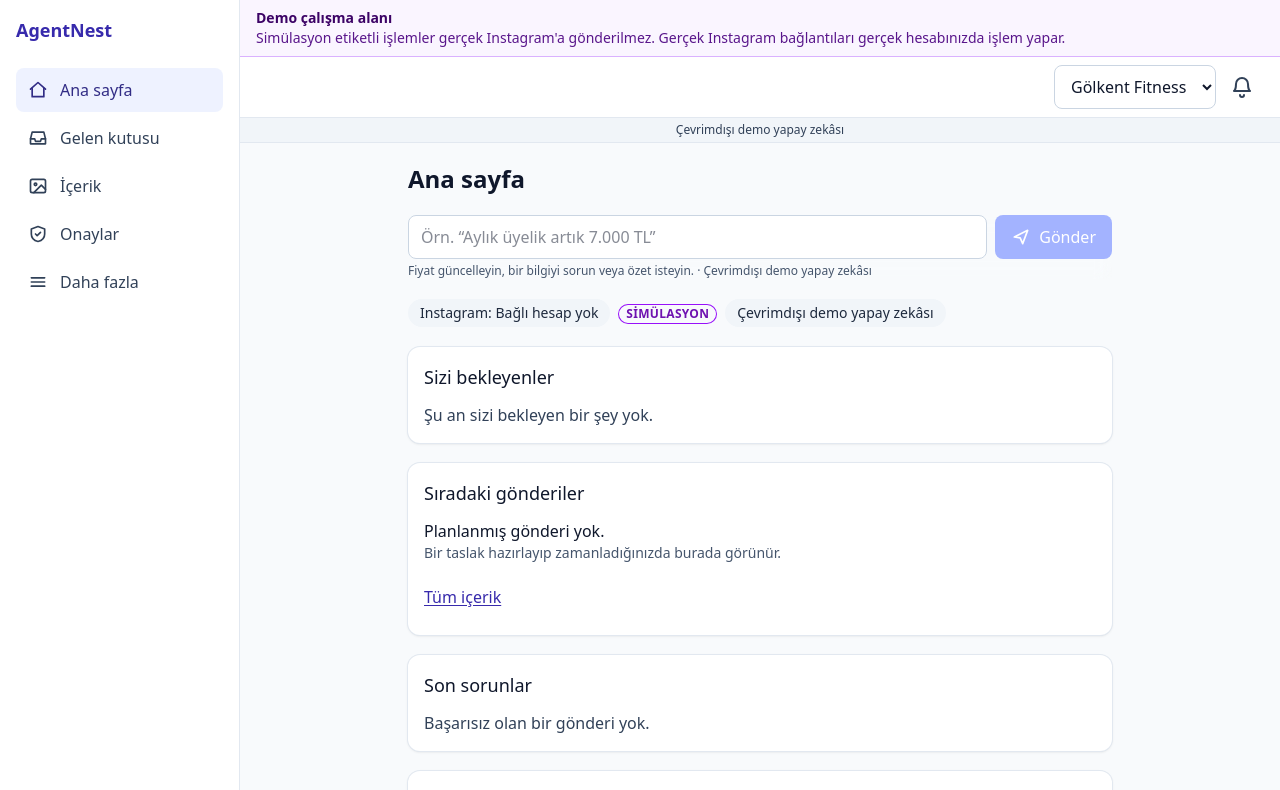
Test case: command bar › shows a plain-language failure from the error code
Type "Aylık üyelik artık 7.000 TL" into the field named "Komut" at (698, 237), box [408,215,987,259]
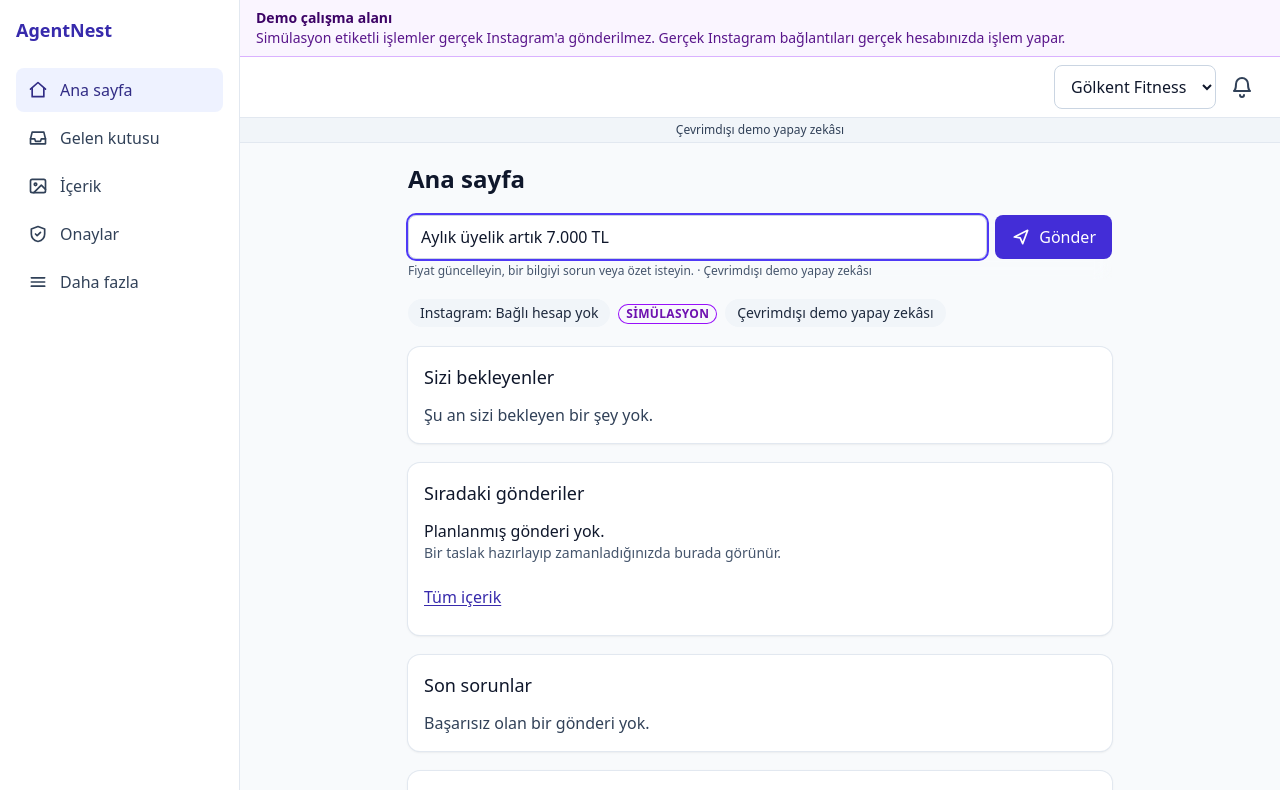
Click the button "Gönder" at (1054, 237), box [995,215,1112,259]
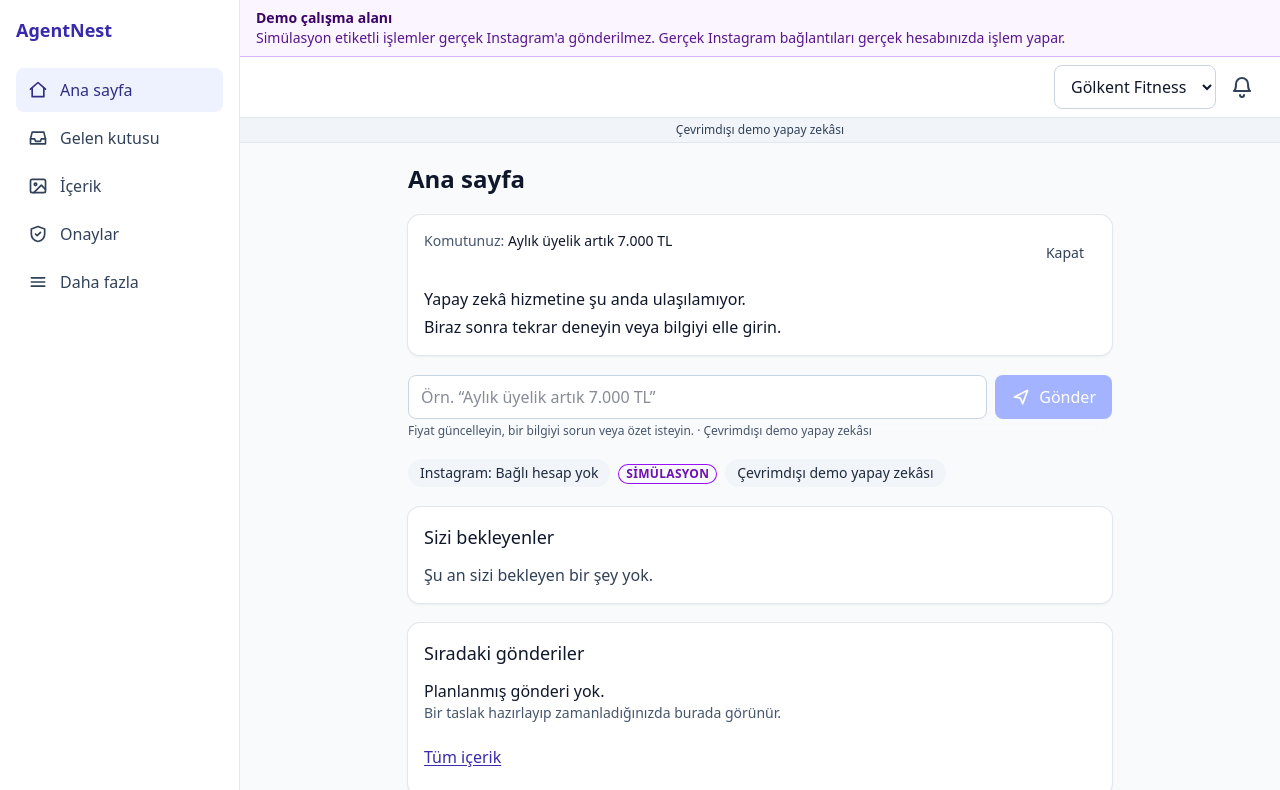
Expected: the message with test id "command-result" shows "Yapay zekâ hizmetine şu anda ulaşılamıyor.", [424,288,746,310]
